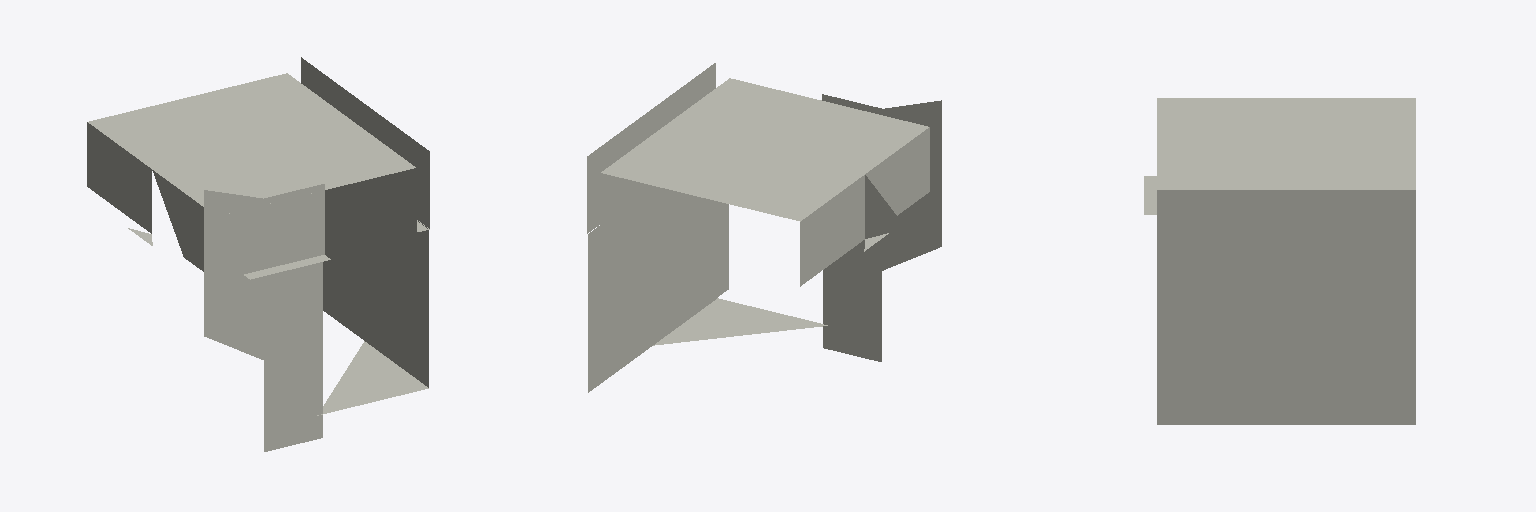
The model's file is Destory6.obj.
3 renders of one model, left to right at view 1: azimuth 30°, elevation 25°; view 2: azimuth 150°, elevation 25°; view 3: azimuth 270°, elevation 25°, orthographic.
Parts seen in each view (by area): view 1: Destory5; view 2: Destory5; view 3: Destory5.
Part boxes in pixels (bbox=[...]): Destory5: bbox=[87, 57, 429, 451]; Destory5: bbox=[587, 63, 941, 392]; Destory5: bbox=[1144, 98, 1415, 424].
Size of the model in its own units: 3.64 by 4.25 by 3.79.